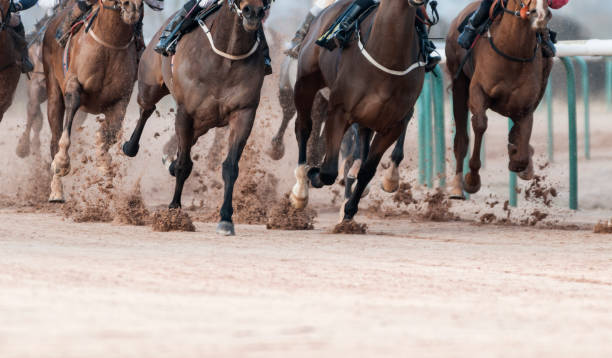Horse: (126, 0, 282, 253), (289, 0, 445, 246)
